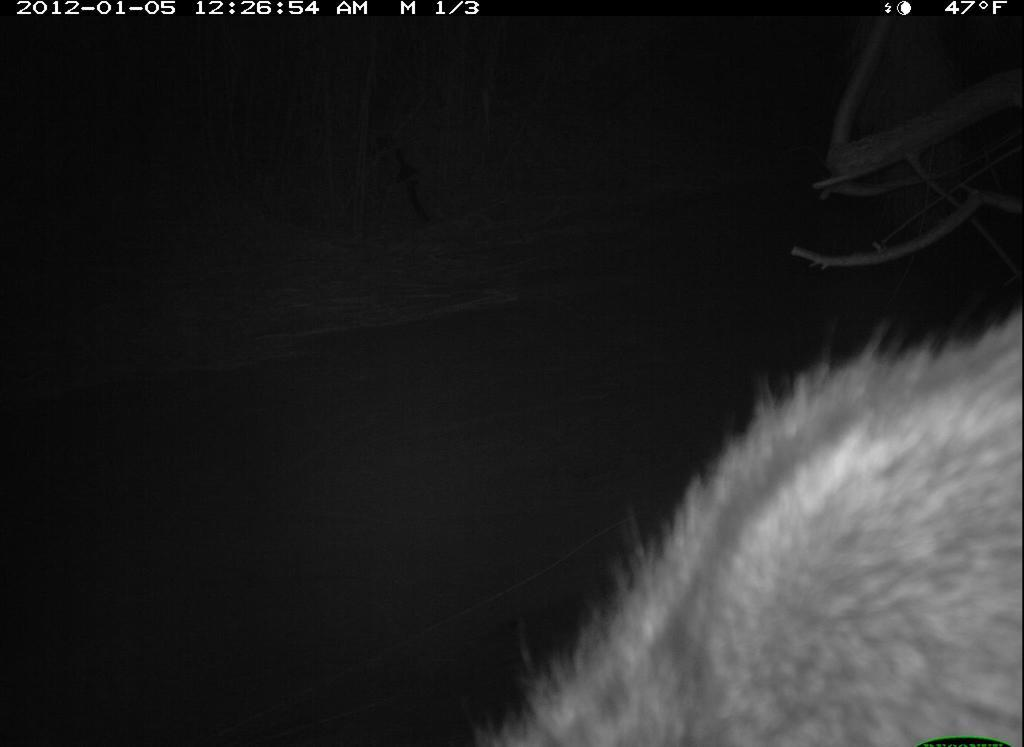raccoon: (457, 314, 1022, 747)
